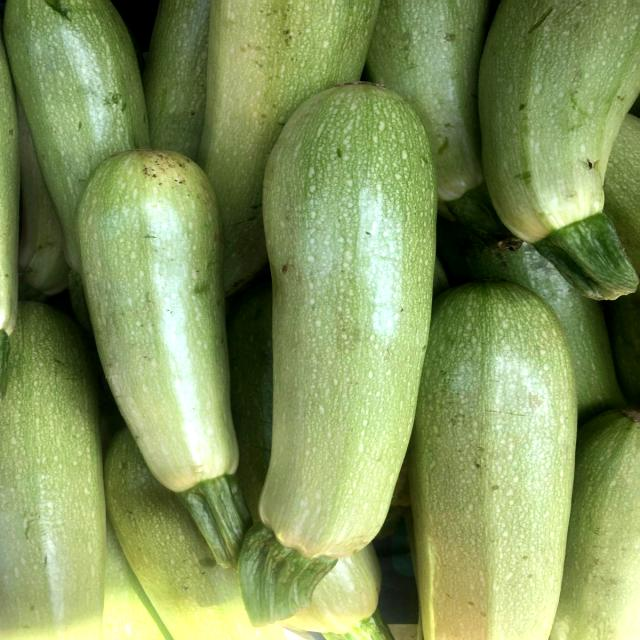zucchini: (223, 70, 472, 627), (61, 134, 280, 575)
